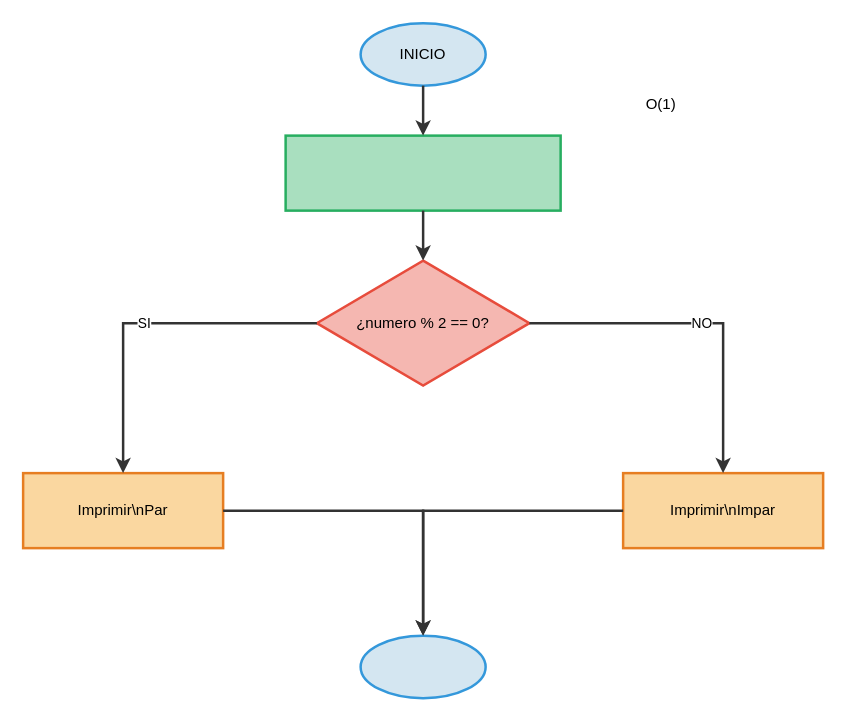
This 845x720 diagram has some shape labels left out. Here are the shapes that lost their labels. From the top down, the centre of each, then its label:
At pixel 422 172: "Leer numero".
At pixel 422 666: "FIN".
